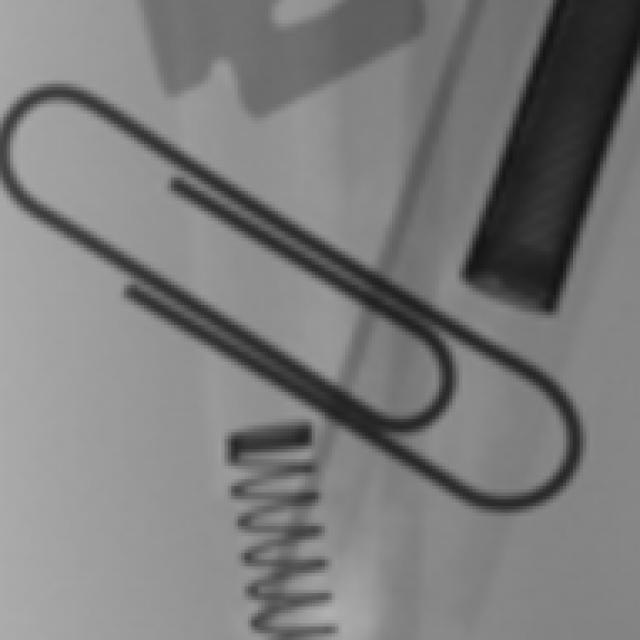BLADE: (122, 1, 457, 162)
